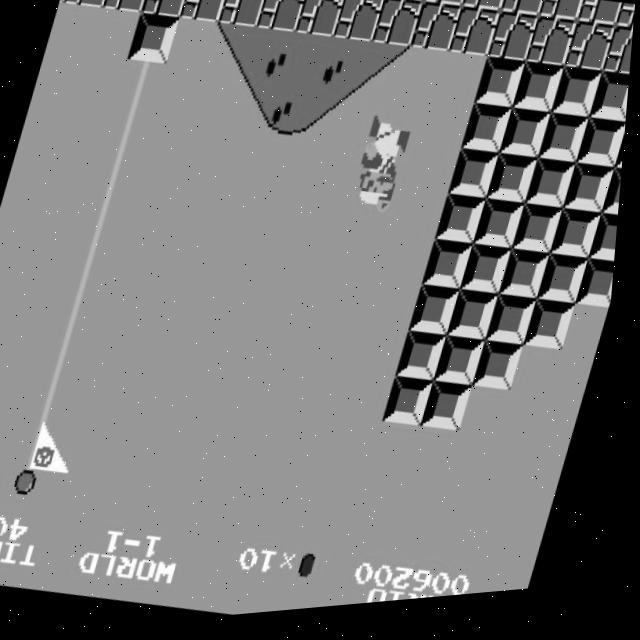17- undestructible_block: (487, 16, 541, 74), (371, 0, 425, 57), (564, 28, 617, 86), (526, 22, 579, 80), (449, 11, 502, 69), (410, 5, 463, 63), (333, 0, 386, 52), (294, 0, 348, 46), (255, 0, 309, 40), (217, 0, 270, 35), (602, 34, 635, 90), (576, 6, 623, 40), (538, 0, 585, 34), (178, 0, 231, 29), (499, 0, 546, 29), (140, 0, 192, 24), (461, 0, 508, 23), (100, 0, 152, 18), (422, 0, 469, 18), (615, 13, 636, 46), (62, 0, 113, 13), (384, 0, 430, 12), (345, 0, 392, 6), (307, 0, 353, 0)
4- fire_mario: (351, 120, 419, 225)
7- goal_pole: (65, 239, 119, 297), (3, 466, 57, 523), (53, 284, 106, 342), (90, 148, 143, 206), (115, 57, 168, 115), (16, 421, 69, 478), (41, 330, 93, 387), (78, 194, 130, 251), (29, 376, 81, 432), (103, 104, 155, 160)
9- hard_block: (400, 334, 454, 392), (462, 107, 516, 165), (528, 306, 582, 363), (477, 346, 531, 403), (514, 210, 568, 267), (539, 119, 593, 176), (451, 295, 505, 352), (513, 68, 567, 125), (490, 300, 543, 358), (501, 113, 554, 171), (438, 198, 491, 256), (475, 62, 528, 120), (127, 12, 180, 70), (541, 261, 594, 318), (553, 215, 606, 272), (552, 74, 605, 131), (439, 340, 492, 397), (464, 250, 517, 307), (476, 204, 529, 261), (413, 289, 466, 346), (450, 153, 503, 210), (527, 165, 580, 221), (566, 170, 618, 227), (427, 386, 479, 443), (489, 159, 541, 216), (389, 380, 441, 437), (426, 244, 478, 301), (578, 124, 629, 182), (503, 256, 555, 312), (590, 79, 632, 136), (580, 268, 620, 322), (593, 222, 623, 276), (604, 178, 626, 231)
